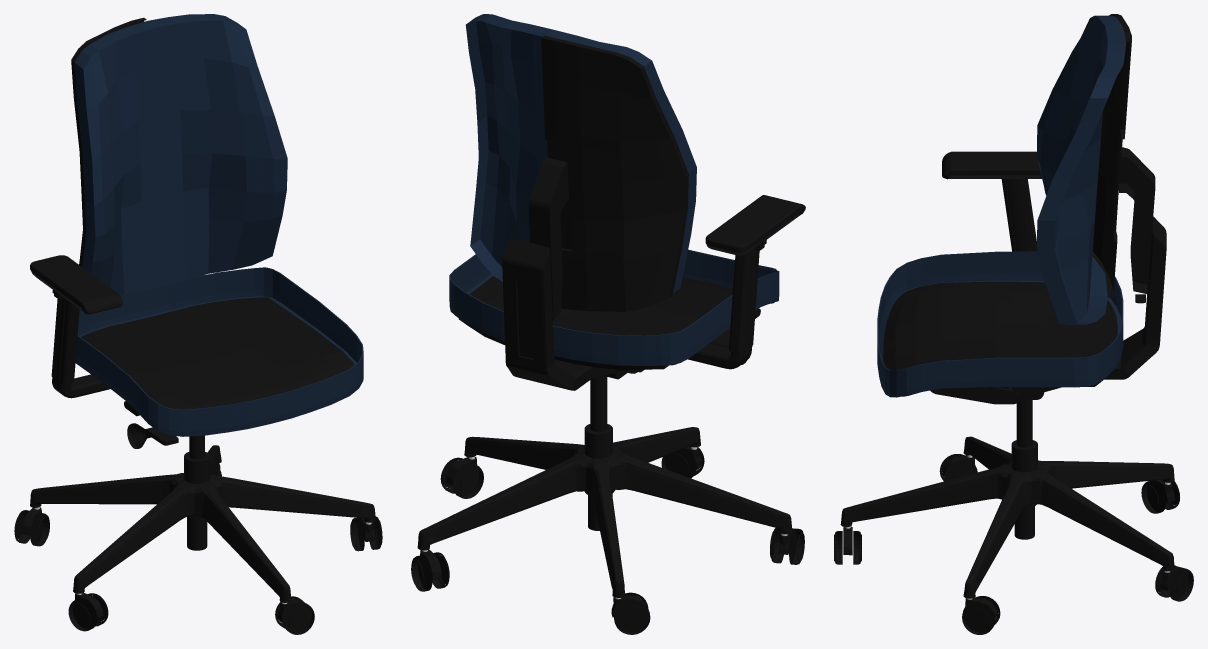
The model's file is officeChar.glb.
The picture shows the model from 3 angles, left to right: view 1: azimuth 30°, elevation 25°; view 2: azimuth 150°, elevation 25°; view 3: azimuth 270°, elevation 25°; orthographic projection. The views are drawn at different scales.
Parts seen in each view (by area): view 1: frcie#pc_mdd_renya_backrestcolor|1, tworzywo12#plastik.001, tka_sied1#pc_mdd_renya_seatcolor|1, krzyzak1#pc_mdd_renya_base|1, kolkaaszare#plastik, podlokietniki3#pc_mdd_renya_armrest|0|3017#plastik, podlokietniki6#pc_mdd_renya_armrest|0|3017#plastik, tworzywoo4#plastik, kolka2#plastik.004, podlokietniki7#pc_mdd_renya_armrest|0|3017#plastik, krzyzak2#pc_mdd_renya_base|1, kolka1#plastik.002 (+1 smaller); view 2: tworzywoo4#plastik, frcie#pc_mdd_renya_backrestcolor|1, krzyzak1#pc_mdd_renya_base|1, tka_sied1#pc_mdd_renya_seatcolor|1, tworzywoo3#plastik, tworzywo12#plastik.001, kolkaaszare#plastik, tworzywoo5#plastik, podlokietniki3#pc_mdd_renya_armrest|0|3017#plastik, podlokietniki6#pc_mdd_renya_armrest|0|3017#plastik, kolka2#plastik.004, podlokietniki7#pc_mdd_renya_armrest|0|3017#plastik (+3 smaller); view 3: frcie#pc_mdd_renya_backrestcolor|1, tworzywo12#plastik.001, krzyzak1#pc_mdd_renya_base|1, tka_sied1#pc_mdd_renya_seatcolor|1, tworzywoo4#plastik, kolkaaszare#plastik, tworzywoo3#plastik, tworzywoo5#plastik, podlokietniki3#pc_mdd_renya_armrest|0|3017#plastik, podlokietniki6#pc_mdd_renya_armrest|0|3017#plastik, tworzywo6#plastik.001, kolka2#plastik.004 (+4 smaller).
Part boxes in pixels (x1,y1,x2,y2): frcie#pc_mdd_renya_backrestcolor|1: [74, 14, 287, 295]; tworzywo12#plastik.001: [81, 297, 354, 409]; tka_sied1#pc_mdd_renya_seatcolor|1: [75, 268, 363, 436]; krzyzak1#pc_mdd_renya_base|1: [30, 445, 375, 602]; kolkaaszare#plastik: [14, 471, 381, 634]; podlokietniki3#pc_mdd_renya_armrest|0|3017#plastik: [30, 255, 122, 314]; podlokietniki6#pc_mdd_renya_armrest|0|3017#plastik: [51, 298, 79, 384]; tworzywoo4#plastik: [71, 17, 146, 266]; kolka2#plastik.004: [21, 464, 374, 621]; podlokietniki7#pc_mdd_renya_armrest|0|3017#plastik: [52, 374, 110, 398]; krzyzak2#pc_mdd_renya_base|1: [184, 452, 210, 519]; kolka1#plastik.002: [14, 512, 382, 632]; tworzywoo4#plastik: [541, 35, 688, 311]; frcie#pc_mdd_renya_backrestcolor|1: [465, 14, 696, 293]; krzyzak1#pc_mdd_renya_base|1: [417, 427, 792, 597]; tka_sied1#pc_mdd_renya_seatcolor|1: [449, 251, 779, 365]; tworzywoo3#plastik: [502, 238, 586, 390]; tworzywo12#plastik.001: [458, 276, 774, 370]; kolkaaszare#plastik: [411, 447, 803, 634]; tworzywoo5#plastik: [528, 157, 568, 320]; podlokietniki3#pc_mdd_renya_armrest|0|3017#plastik: [705, 195, 805, 252]; podlokietniki6#pc_mdd_renya_armrest|0|3017#plastik: [729, 249, 759, 352]; kolka2#plastik.004: [420, 446, 793, 617]; podlokietniki7#pc_mdd_renya_armrest|0|3017#plastik: [688, 343, 751, 369]; frcie#pc_mdd_renya_backrestcolor|1: [1037, 15, 1126, 324]; tworzywo12#plastik.001: [883, 281, 1117, 396]; krzyzak1#pc_mdd_renya_base|1: [840, 436, 1174, 598]; tka_sied1#pc_mdd_renya_seatcolor|1: [877, 251, 1123, 397]; tworzywoo4#plastik: [1092, 14, 1131, 297]; kolkaaszare#plastik: [835, 454, 1193, 634]; tworzywoo3#plastik: [1104, 216, 1166, 379]; tworzywoo5#plastik: [1119, 147, 1155, 294]; podlokietniki3#pc_mdd_renya_armrest|0|3017#plastik: [942, 151, 1040, 179]; podlokietniki6#pc_mdd_renya_armrest|0|3017#plastik: [1001, 179, 1036, 251]; tworzywo6#plastik.001: [930, 387, 1044, 404]; kolka2#plastik.004: [843, 455, 1182, 618].
Bounding box in the file's own units: 0.7102 × 1.09 × 0.6896.
Materials: 3 (1 with a texture image).
